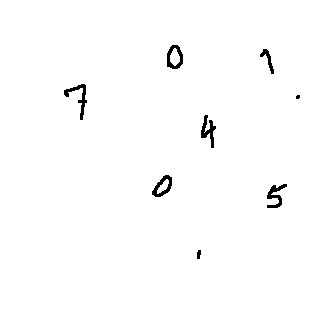.: (193, 236, 207, 269), (286, 87, 308, 106)
0: (151, 36, 195, 83), (146, 168, 175, 215)
1: (254, 42, 279, 83)
4: (184, 107, 225, 154)
5: (262, 180, 294, 217)
7: (61, 81, 90, 126)
